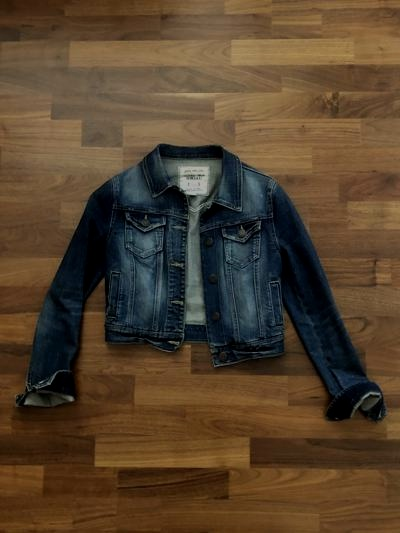Blazer: (5, 101, 388, 442)
